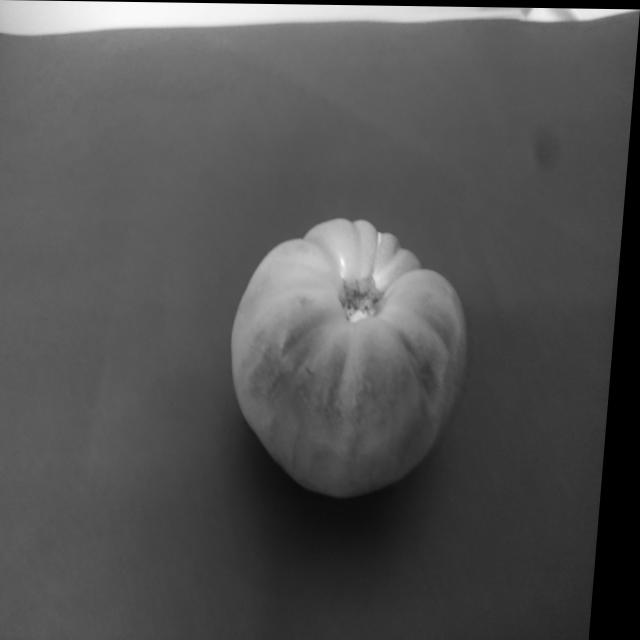yesil: (220, 178, 493, 524)
